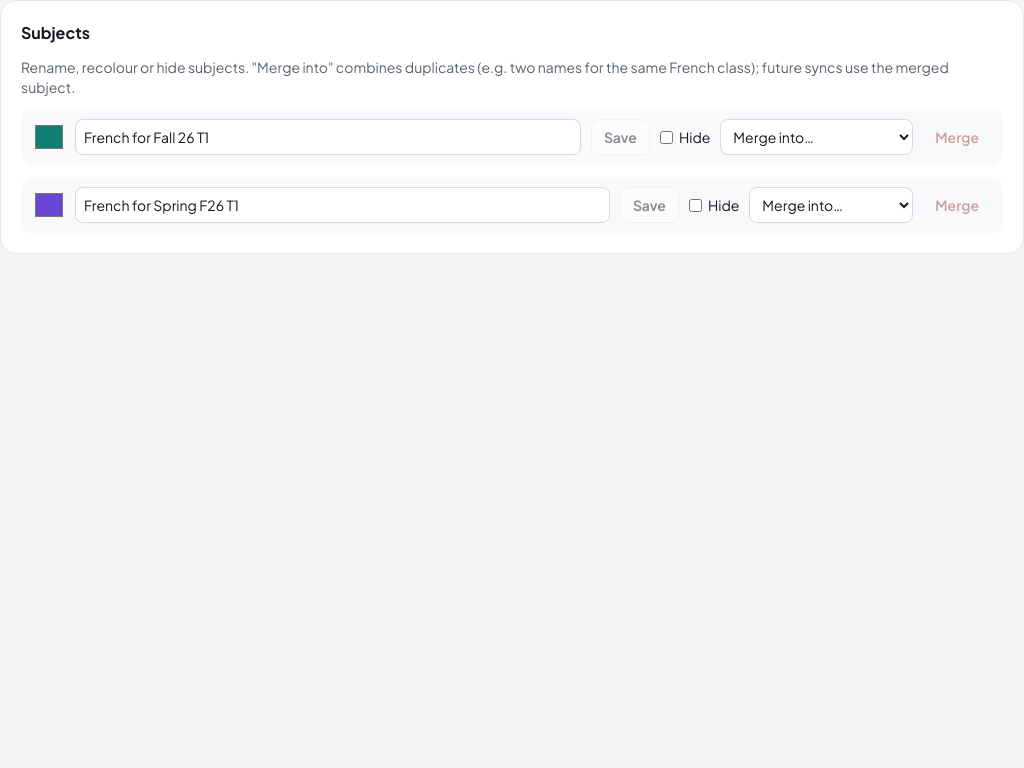
Scenario: SubjectSettings › toasts after a rename
The width and height of the screenshot is (1024, 768).
Replace the text in the field named "Name of French for Spring F26 T1" with "French (spring)" at (342, 205), box [75,187,610,223]
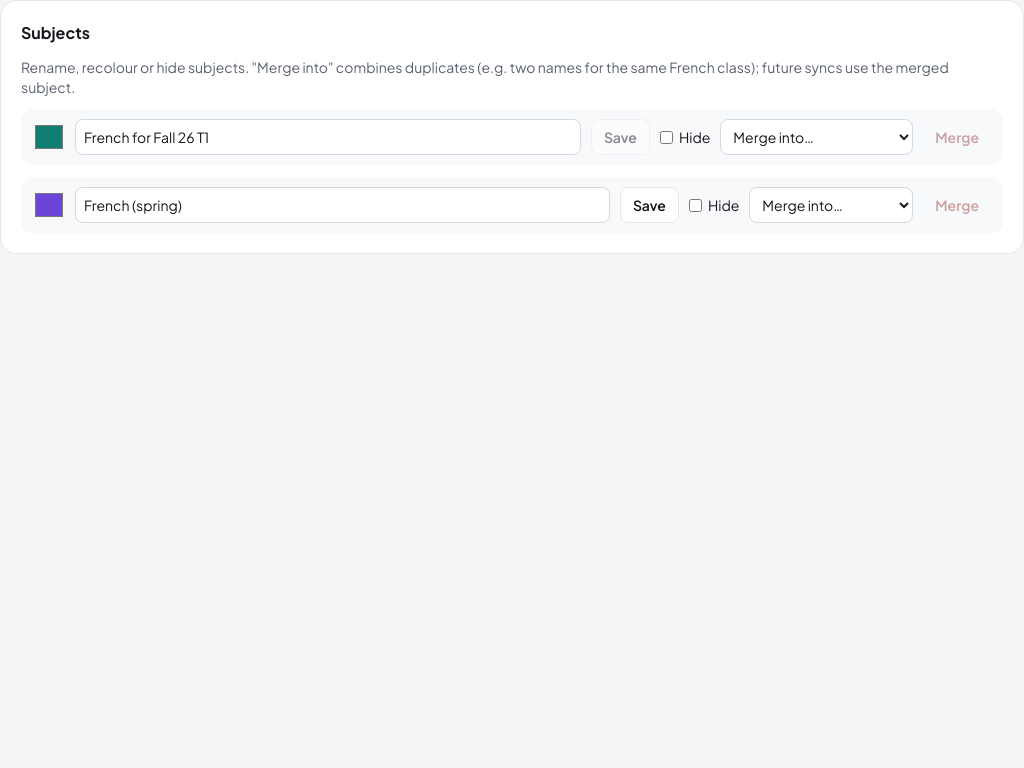
Click the button with aria-label "Save name of French for Spring F26 T1" at (649, 205), box [620,187,679,223]
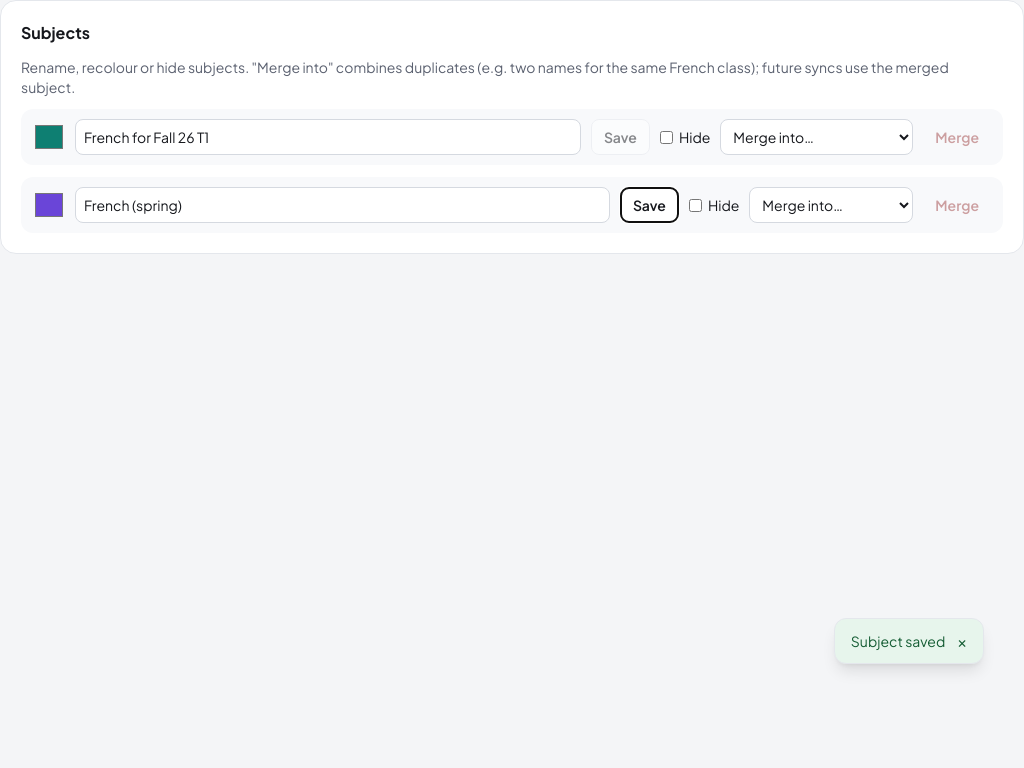
Now the text "Subject saved" is shown, box [851,631,945,651]
